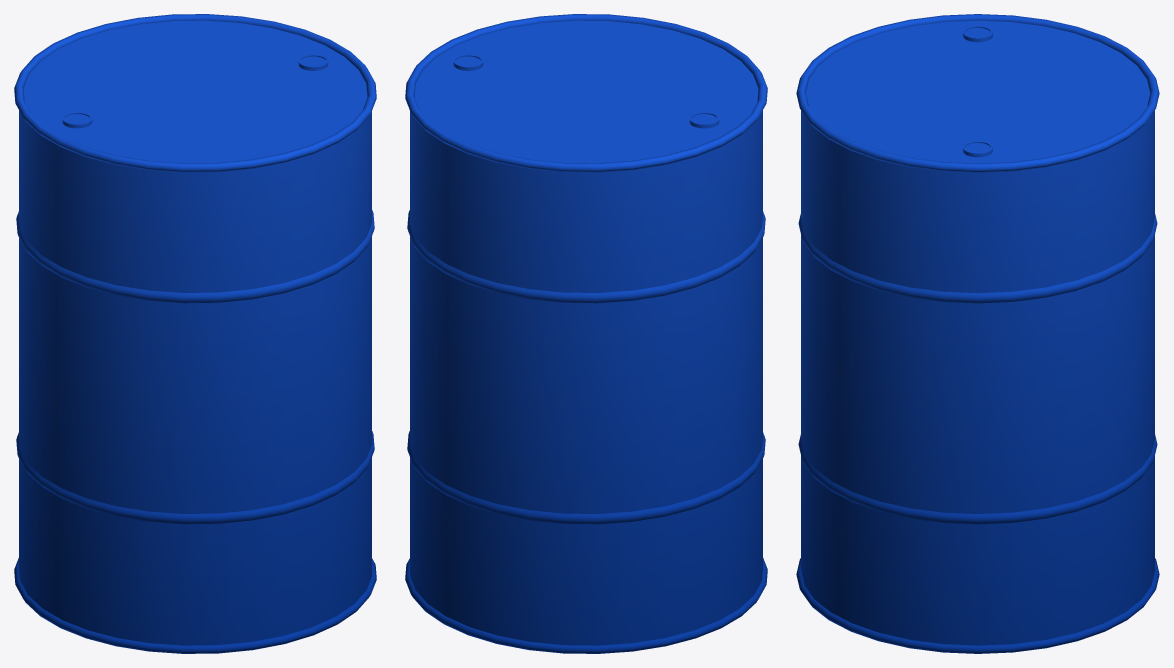
Rendered from barrel_02_medium_blue.glb.
3 views of the same model, side by side, from view 1: azimuth 30°, elevation 25°; view 2: azimuth 150°, elevation 25°; view 3: azimuth 270°, elevation 25° (orthographic).
Visible parts, largest first — view 1: barrel_02_medium_blue; view 2: barrel_02_medium_blue; view 3: barrel_02_medium_blue.
Part boxes in pixels (x1,y1,x2,y2): barrel_02_medium_blue: [14, 14, 376, 653]; barrel_02_medium_blue: [405, 14, 767, 653]; barrel_02_medium_blue: [796, 14, 1159, 653].
Size of the model in its own units: 0.519 by 0.77 by 0.519.
Materials: 1 (1 with a texture image).
